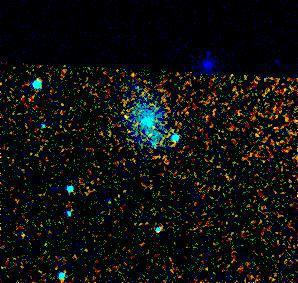star: (111, 103, 141, 133)
